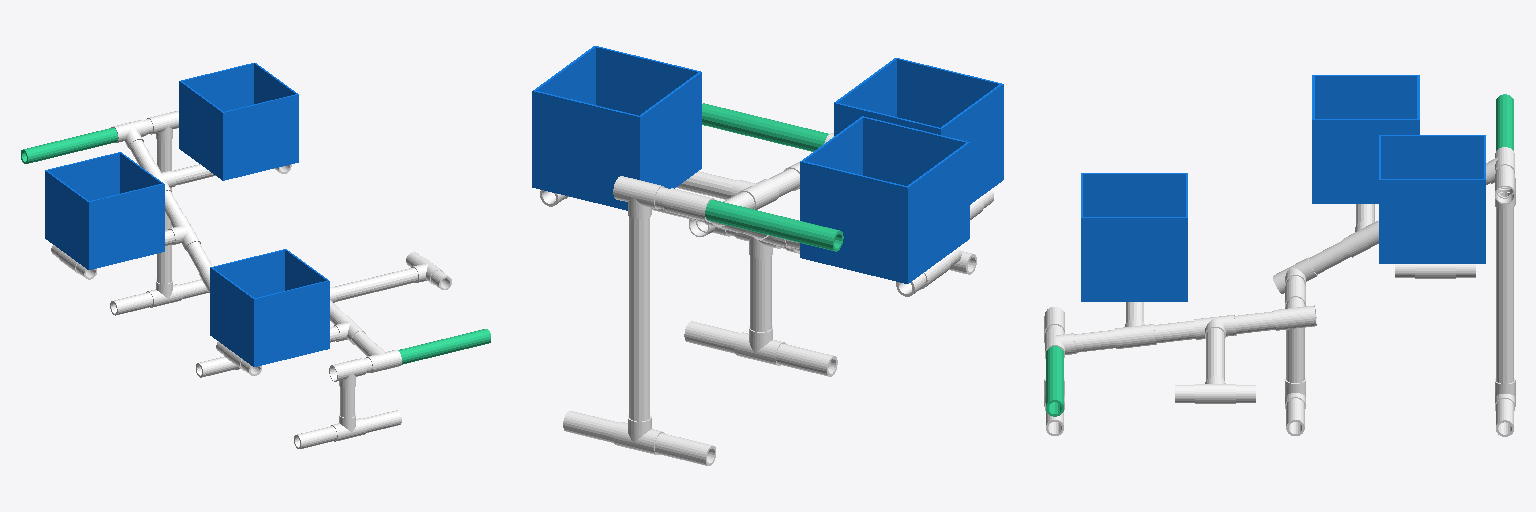
URDF robot description (rs2026_bin_urdf):
<?xml version="1.0" encoding="utf-8"?>
<!-- This URDF was automatically created by SolidWorks to URDF Exporter! Originally created by Stephen Brawner (brawner@gmail.com) 
     Commit Version: 1.6.0-4-g7f85cfe  Build Version: 1.6.7995.38578
     For more information, please see http://wiki.ros.org/sw_urdf_exporter -->
<robot
  name="rs2026_bin_urdf">
  <link
    name="base_link">
    <inertial>
      <origin
        xyz="1.0204 1.2699 0.28257"
        rpy="0 0 0" />
      <mass
        value="11.751" />
      <inertia
        ixx="0.057018"
        ixy="1.9787E-10"
        ixz="-7.0658E-10"
        iyy="0.060393"
        iyz="0.0014998"
        izz="0.096926" />
    </inertial>
    <visual>
      <origin
        xyz="0 0 0"
        rpy="0 0 0" />
      <geometry>
        <mesh
          filename="package://rs2026_bin_urdf/meshes/base_link.STL" />
      </geometry>
      <material
        name="">
        <color
          rgba="1 1 1 1" />
      </material>
    </visual>
    <collision>
      <origin
        xyz="0 0 0"
        rpy="0 0 0" />
      <geometry>
        <mesh
          filename="package://rs2026_bin_urdf/meshes/base_link.STL" />
      </geometry>
    </collision>
  </link>
  <link
    name="box_1">
    <inertial>
      <origin
        xyz="1.1102E-16 0.071012 0.175"
        rpy="0 0 0" />
      <mass
        value="5.327" />
      <inertia
        ixx="0.12994"
        ixy="-7.0907E-17"
        ixz="-1.6488E-17"
        iyy="0.16257"
        iyz="1.5356E-17"
        izz="0.12994" />
    </inertial>
    <visual>
      <origin
        xyz="0 0 0"
        rpy="0 0 0" />
      <geometry>
        <mesh
          filename="package://rs2026_bin_urdf/meshes/box_1.STL" />
      </geometry>
      <material
        name="">
        <color
          rgba="0.12 0.56 1 1" />
      </material>
    </visual>
    <collision>
      <origin
        xyz="0 0 0"
        rpy="0 0 0" />
      <geometry>
        <mesh
          filename="package://rs2026_bin_urdf/meshes/box_1.STL" />
      </geometry>
    </collision>
  </link>
  <joint
    name="box_!"
    type="prismatic">
    <origin
      xyz="0.81131 -0.64469 1.2801"
      rpy="1.5708 0 0" />
    <parent
      link="base_link" />
    <child
      link="box_1" />
    <axis
      xyz="0 0 1" />
    <limit
      lower="0"
      upper="0"
      effort="0"
      velocity="0" />
  </joint>
  <link
    name="box_2">
    <inertial>
      <origin
        xyz="0 0.071012 0.175"
        rpy="0 0 0" />
      <mass
        value="5.327" />
      <inertia
        ixx="0.12994"
        ixy="-1.3072E-17"
        ixz="2.5931E-17"
        iyy="0.16257"
        iyz="7.8168E-17"
        izz="0.12994" />
    </inertial>
    <visual>
      <origin
        xyz="0 0 0"
        rpy="0 0 0" />
      <geometry>
        <mesh
          filename="package://rs2026_bin_urdf/meshes/box_2.STL" />
      </geometry>
      <material
        name="">
        <color
          rgba="0.12 0.56 1 1" />
      </material>
    </visual>
    <collision>
      <origin
        xyz="0 0 0"
        rpy="0 0 0" />
      <geometry>
        <mesh
          filename="package://rs2026_bin_urdf/meshes/box_2.STL" />
      </geometry>
    </collision>
  </link>
  <joint
    name="box_2"
    type="prismatic">
    <origin
      xyz="1.5566 -0.38765 1.3134"
      rpy="1.5708 0 0" />
    <parent
      link="base_link" />
    <child
      link="box_2" />
    <axis
      xyz="0 0 1" />
    <limit
      lower="0"
      upper="0"
      effort="0"
      velocity="0" />
  </joint>
  <link
    name="box_3">
    <inertial>
      <origin
        xyz="-1.6653E-16 0.071012 0.065224"
        rpy="0 0 0" />
      <mass
        value="5.327" />
      <inertia
        ixx="0.12994"
        ixy="6.8046E-17"
        ixz="-2.0031E-17"
        iyy="0.16257"
        iyz="-1.7974E-17"
        izz="0.12994" />
    </inertial>
    <visual>
      <origin
        xyz="0 0 0"
        rpy="0 0 0" />
      <geometry>
        <mesh
          filename="package://rs2026_bin_urdf/meshes/box_3.STL" />
      </geometry>
      <material
        name="">
        <color
          rgba="0.12 0.56 1 1" />
      </material>
    </visual>
    <collision>
      <origin
        xyz="0 0 0"
        rpy="0 0 0" />
      <geometry>
        <mesh
          filename="package://rs2026_bin_urdf/meshes/box_3.STL" />
      </geometry>
    </collision>
  </link>
  <joint
    name="box_3"
    type="prismatic">
    <origin
      xyz="0.48431 0 1.4793"
      rpy="1.5708 0 0" />
    <parent
      link="base_link" />
    <child
      link="box_3" />
    <axis
      xyz="0 0 1" />
    <limit
      lower="0"
      upper="0"
      effort="0"
      velocity="0" />
  </joint>
  <link
    name="box_4">
    <inertial>
      <origin
        xyz="0 0.071012 -0.15148"
        rpy="0 0 0" />
      <mass
        value="5.327" />
      <inertia
        ixx="0.12994"
        ixy="-3.3796E-17"
        ixz="8.2973E-17"
        iyy="0.16257"
        iyz="4.1683E-17"
        izz="0.12994" />
    </inertial>
    <visual>
      <origin
        xyz="0 0 0"
        rpy="0 0 0" />
      <geometry>
        <mesh
          filename="package://rs2026_bin_urdf/meshes/box_4.STL" />
      </geometry>
      <material
        name="">
        <color
          rgba="0.12 0.56 1 1" />
      </material>
    </visual>
    <collision>
      <origin
        xyz="0 0 0"
        rpy="0 0 0" />
      <geometry>
        <mesh
          filename="package://rs2026_bin_urdf/meshes/box_4.STL" />
      </geometry>
    </collision>
  </link>
  <joint
    name="box_4"
    type="prismatic">
    <origin
      xyz="1.2296 0 1.612"
      rpy="1.5708 0 0" />
    <parent
      link="base_link" />
    <child
      link="box_4" />
    <axis
      xyz="0 0 1" />
    <limit
      lower="0"
      upper="0"
      effort="0"
      velocity="0" />
  </joint>
  <link
    name="greenbar_1">
    <inertial>
      <origin
        xyz="0 -0.225 0"
        rpy="0 0 0" />
      <mass
        value="0.59523" />
      <inertia
        ixx="0.010255"
        ixy="1.3235E-20"
        ixz="-1.4334E-36"
        iyy="0.00042171"
        iyz="6.3473E-35"
        izz="0.010255" />
    </inertial>
    <visual>
      <origin
        xyz="0 0 0"
        rpy="0 0 0" />
      <geometry>
        <mesh
          filename="package://rs2026_bin_urdf/meshes/greenbar_1.STL" />
      </geometry>
      <material
        name="">
        <color
          rgba="0.24 0.87 0.62 1" />
      </material>
    </visual>
    <collision>
      <origin
        xyz="0 0 0"
        rpy="0 0 0" />
      <geometry>
        <mesh
          filename="package://rs2026_bin_urdf/meshes/greenbar_1.STL" />
      </geometry>
    </collision>
  </link>
  <joint
    name="greenbar_1"
    type="continuous">
    <origin
      xyz="1.2157 -1.0792 1.1928"
      rpy="1.5708 -1.5708 0" />
    <parent
      link="base_link" />
    <child
      link="greenbar_1" />
    <axis
      xyz="0 1 0" />
  </joint>
  <link
    name="greenbar_2">
    <inertial>
      <origin
        xyz="0 0 0"
        rpy="0 0 0" />
      <mass
        value="0" />
      <inertia
        ixx="0"
        ixy="0"
        ixz="0"
        iyy="0"
        iyz="0"
        izz="0" />
    </inertial>
    <visual>
      <origin
        xyz="0 0 0"
        rpy="0 0 0" />
      <geometry>
        <mesh
          filename="package://rs2026_bin_urdf/meshes/greenbar_2.STL" />
      </geometry>
      <material
        name="">
        <color
          rgba="0.24 0.87 0.62 1" />
      </material>
    </visual>
    <collision>
      <origin
        xyz="0 0 0"
        rpy="0 0 0" />
      <geometry>
        <mesh
          filename="package://rs2026_bin_urdf/meshes/greenbar_2.STL" />
      </geometry>
    </collision>
  </link>
  <joint
    name="greenbar_2"
    type="continuous">
    <origin
      xyz="0.37519 0.38798 1.6905"
      rpy="1.5708 1.5708 0" />
    <parent
      link="base_link" />
    <child
      link="greenbar_2" />
    <axis
      xyz="0 1 0" />
  </joint>
</robot>

--- What the picture shows (computed from the rendered views, not written in the file) ---
3 views of the same robot in one strip: view 1: azimuth 30°, elevation 25°; view 2: azimuth 150°, elevation 25°; view 3: azimuth 270°, elevation 25° (orthographic).
Robot: rs2026_bin_urdf — 7 links, 6 joints (2 continuous, 4 prismatic); root link base_link; default pose: every joint at zero.
Visible links, largest first — view 1: base_link, box_3, box_4, box_1, greenbar_2, greenbar_1; view 2: base_link, box_3, box_4, box_1, greenbar_2, greenbar_1; view 3: base_link, box_1, box_4, box_3, greenbar_1, greenbar_2.
Boxes of the visible links, <box> form: base_link: <box>51,111,451,448</box>; box_3: <box>45,152,164,269</box>; box_4: <box>179,63,298,180</box>; box_1: <box>210,249,329,366</box>; greenbar_2: <box>21,128,117,163</box>; greenbar_1: <box>398,329,490,364</box>; base_link: <box>540,133,993,465</box>; box_3: <box>800,116,969,283</box>; box_4: <box>532,46,701,210</box>; box_1: <box>834,58,1003,204</box>; greenbar_2: <box>705,200,843,251</box>; greenbar_1: <box>702,103,828,151</box>; base_link: <box>1044,147,1515,436</box>; box_1: <box>1081,173,1187,301</box>; box_4: <box>1379,135,1485,263</box>; box_3: <box>1312,75,1419,203</box>; greenbar_1: <box>1046,346,1063,416</box>; greenbar_2: <box>1496,94,1513,150</box>.
Size in the robot's own frame: 1.42 by 1.54 by 0.9991 metres.
Meshes: 7 distinct files referenced, 6 mesh visuals loaded (6 binary STL); not drawn: 1 (reference not matched to a file when rendering).
